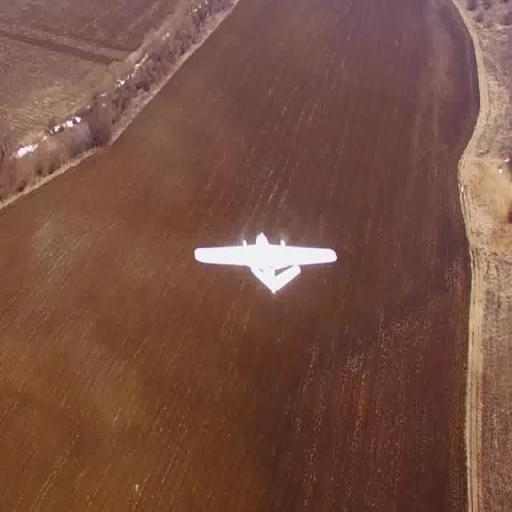uav: (188, 226, 338, 300)
